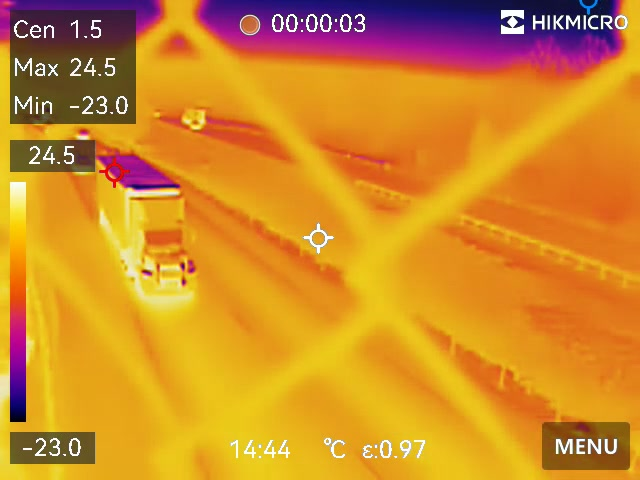heavyTruck: (90, 148, 204, 299), (178, 106, 209, 124)
vehicle: (189, 119, 202, 131)
